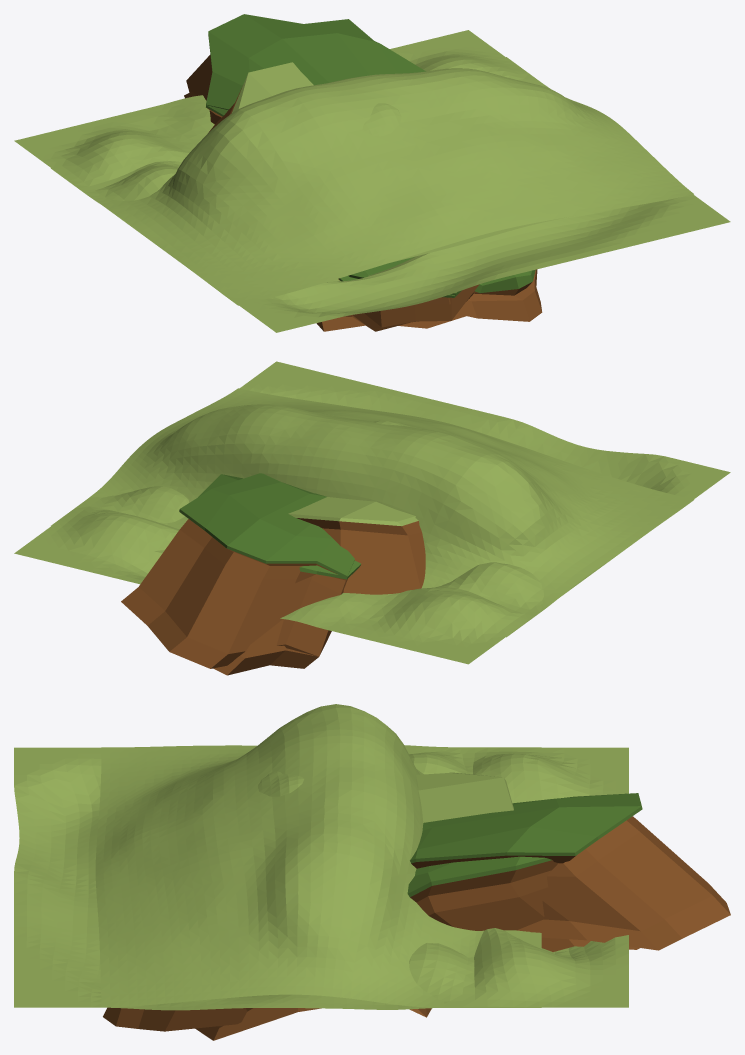
The model's file is Flatform.fbx.
The picture shows the model from 3 angles, top to bottom: view 1: azimuth 30°, elevation 25°; view 2: azimuth 150°, elevation 25°; view 3: azimuth 270°, elevation 25°; orthographic projection. The views are drawn at different scales.
Parts seen in each view (by area): view 1: Plane.014, Plane.016, Plane.004, Plane.005, Plane.002, Plane.003, Plane.012, Plane.006, Plane.015; view 2: Plane.014, Plane.016, Plane.004, Plane.003, Plane.005; view 3: Plane.014, Plane.016, Plane.004, Plane.005, Plane.003, Plane.002, Plane.006, Plane.012.
Part boxes in pixels (<box>): Plane.014: <box>51,57,693,305</box>; Plane.016: <box>14,30,730,332</box>; Plane.004: <box>186,14,461,304</box>; Plane.005: <box>184,41,479,331</box>; Plane.002: <box>457,269,542,321</box>; Plane.003: <box>208,62,313,132</box>; Plane.012: <box>363,103,401,136</box>; Plane.006: <box>316,314,466,331</box>; Plane.015: <box>191,141,568,262</box>; Plane.014: <box>51,388,694,637</box>; Plane.016: <box>14,361,730,664</box>; Plane.004: <box>121,473,354,668</box>; Plane.003: <box>288,497,425,594</box>; Plane.005: <box>198,474,360,675</box>; Plane.014: <box>95,704,541,1007</box>; Plane.016: <box>14,747,628,1010</box>; Plane.004: <box>410,793,730,950</box>; Plane.005: <box>407,856,639,951</box>; Plane.003: <box>416,772,513,822</box>; Plane.002: <box>103,1007,431,1031</box>; Plane.006: <box>195,1008,321,1040</box>; Plane.012: <box>258,771,303,796</box>.
Size of the model in its own units: 26.24 by 30.28 by 10.76.
